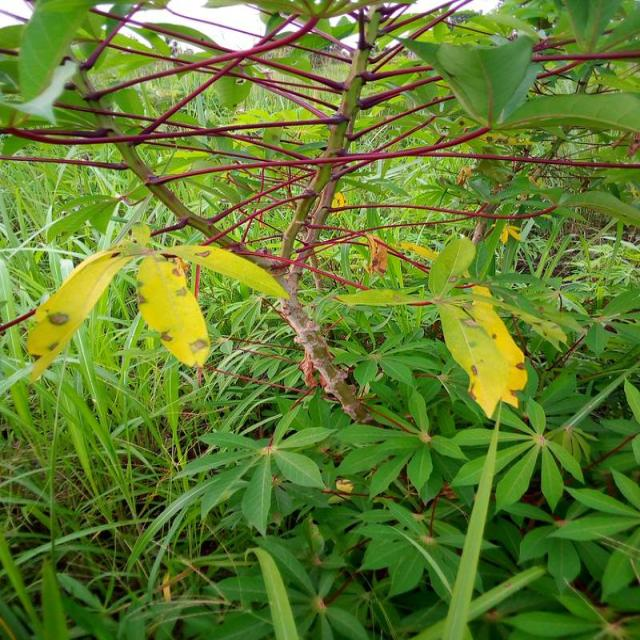cassava leaf: (427, 237, 528, 420), (25, 244, 134, 383), (396, 27, 544, 129), (136, 252, 210, 370), (160, 241, 290, 300)
